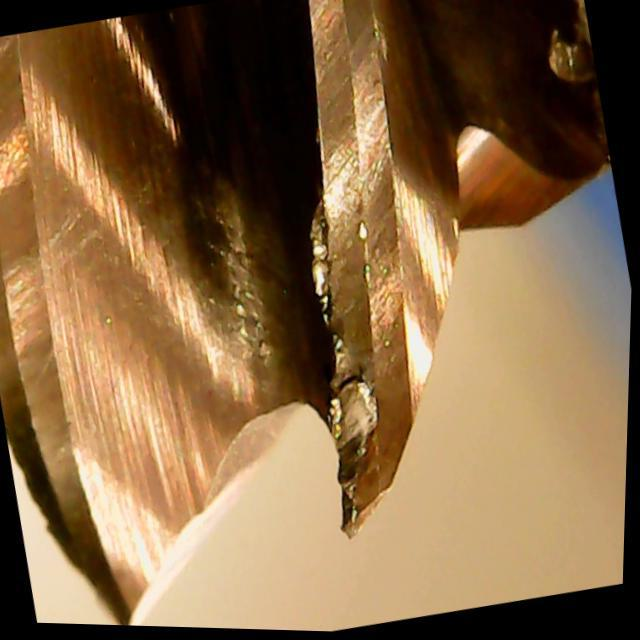Tool-wear-class-2: (291, 304, 467, 553)
